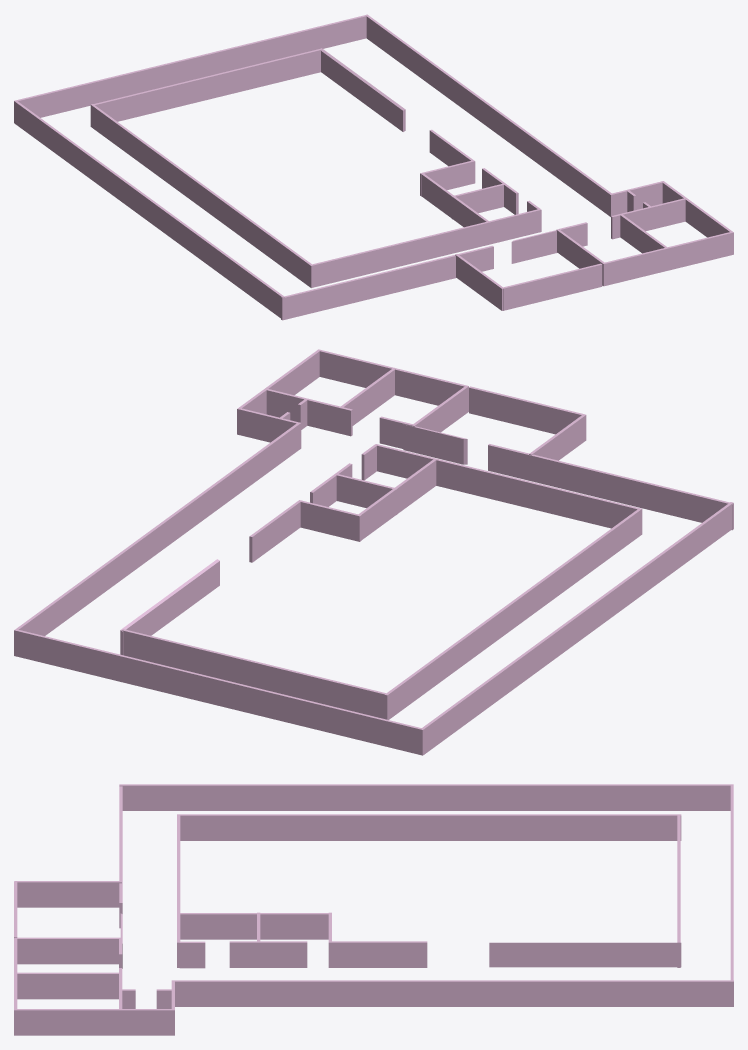
File: ece_block.dae
3 views of the same model, one above another, from view 1: azimuth 30°, elevation 25°; view 2: azimuth 150°, elevation 25°; view 3: azimuth 270°, elevation 25° (orthographic). The views are drawn at different scales.
Parts seen in each view (by area): view 1: Cube.018; view 2: Cube.018; view 3: Cube.018.
Boxes of the visible parts, x1,y1,x2,y2 form: Cube.018: [14, 14, 733, 320]; Cube.018: [14, 349, 733, 755]; Cube.018: [14, 784, 733, 1035].
Bounding box in the file's own units: 11.44 × 15.39 × 0.62.
